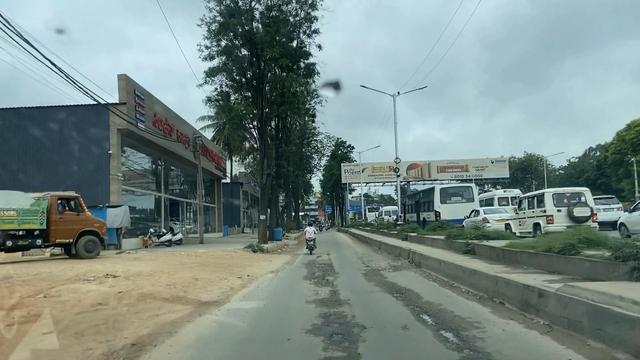HMV: (0, 196, 110, 261)
RoadDamages: (403, 306, 489, 360), (301, 257, 353, 314), (304, 316, 359, 359), (363, 264, 416, 301)
